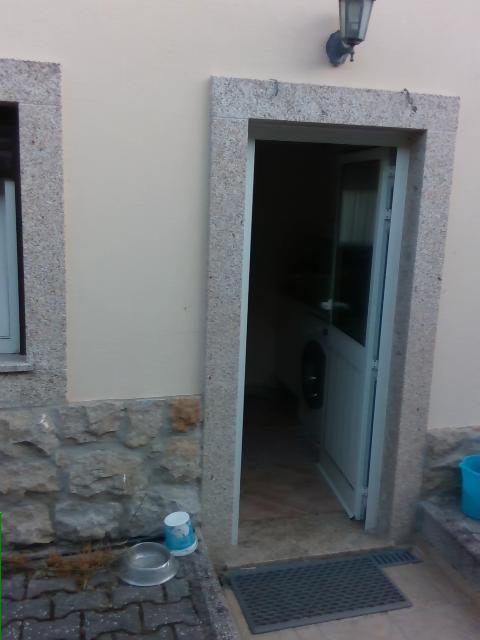open_door: (233, 115, 429, 565)
